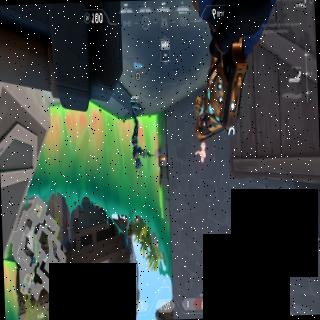ENEMY-HEAD: (200, 156, 204, 164)
